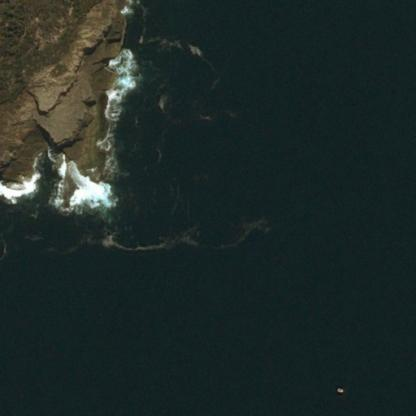ship: (330, 379, 348, 400)
